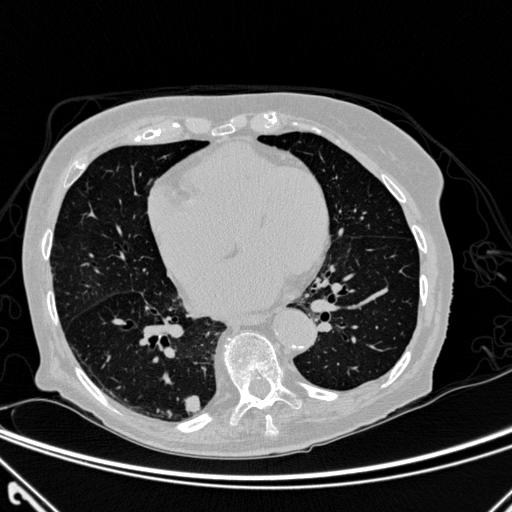nodule: (181, 391, 206, 416)
